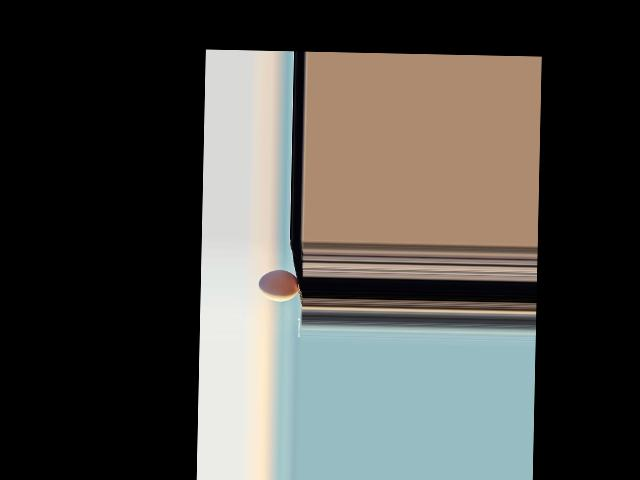egg: (258, 269, 298, 302)
